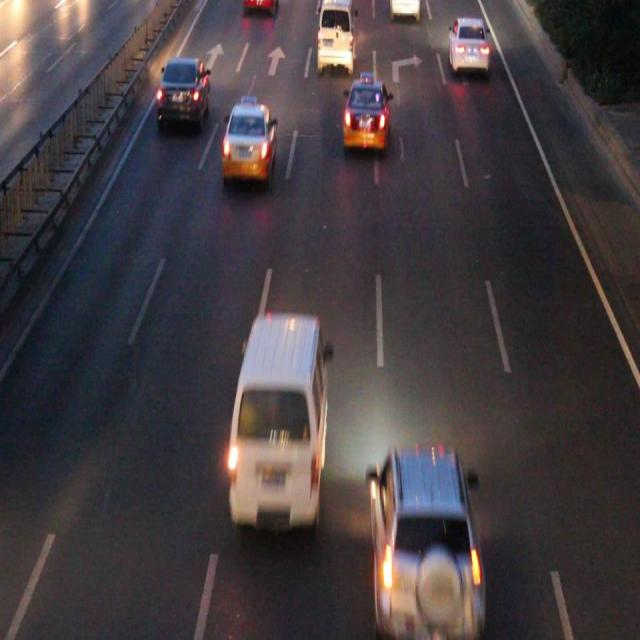car: (368, 449, 482, 615), (222, 106, 274, 176), (158, 62, 208, 125), (342, 82, 387, 146), (447, 20, 487, 70), (389, 1, 418, 19), (242, 2, 275, 15)
truck: (228, 315, 324, 525), (316, 1, 352, 69)
